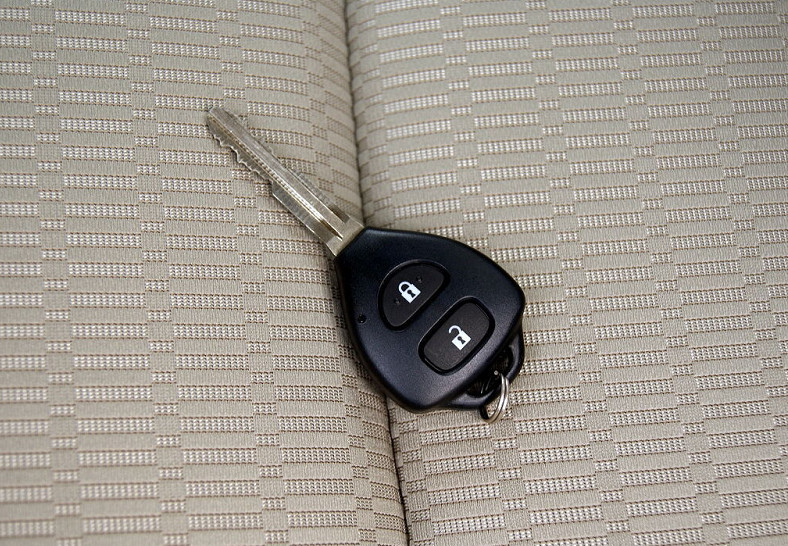key: (185, 99, 554, 440)
